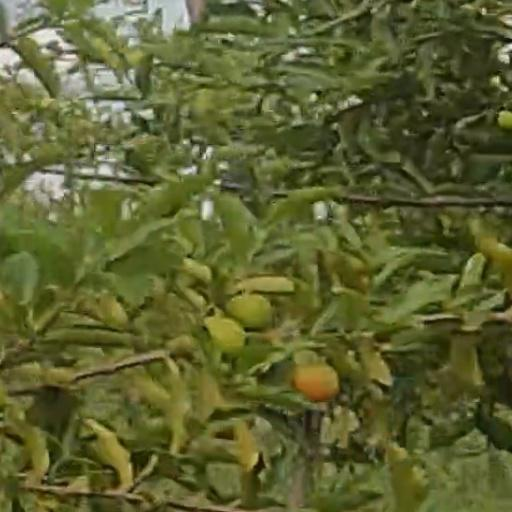acerola: (298, 365, 340, 401), (228, 296, 273, 325)
